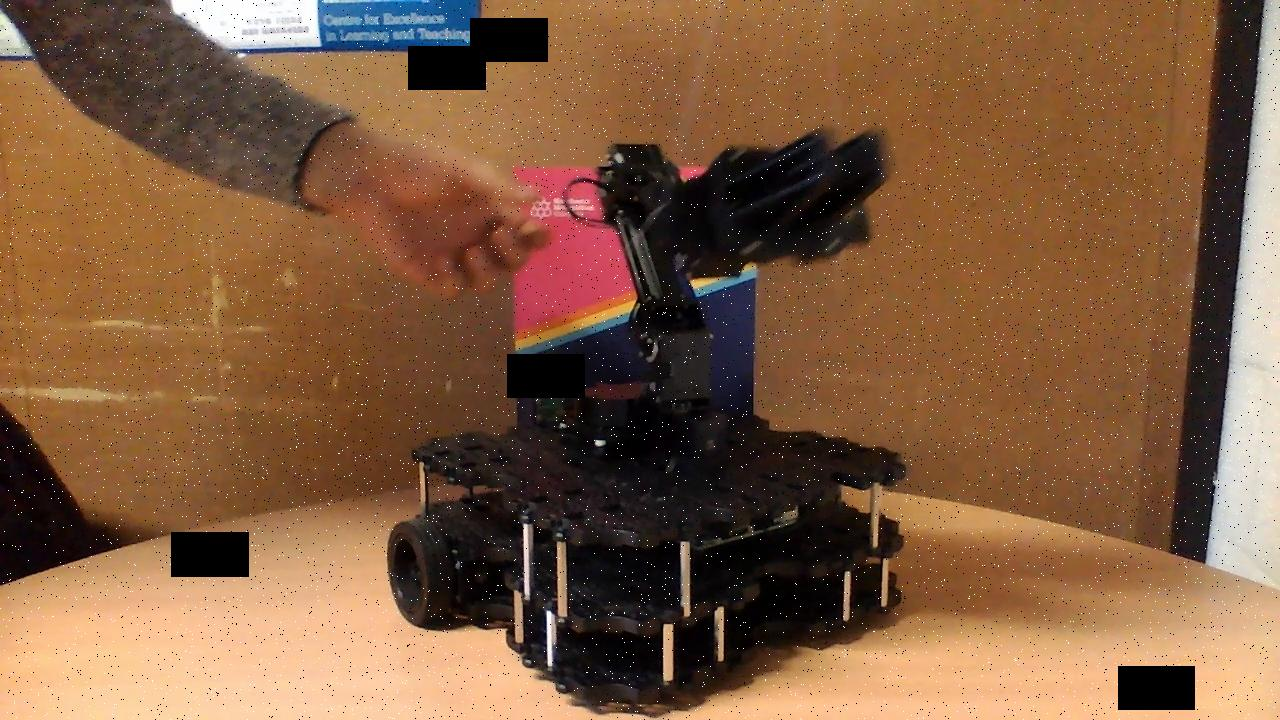Arm: (592, 142, 716, 364)
Hand: (674, 122, 892, 279)
base: (386, 377, 909, 709)
